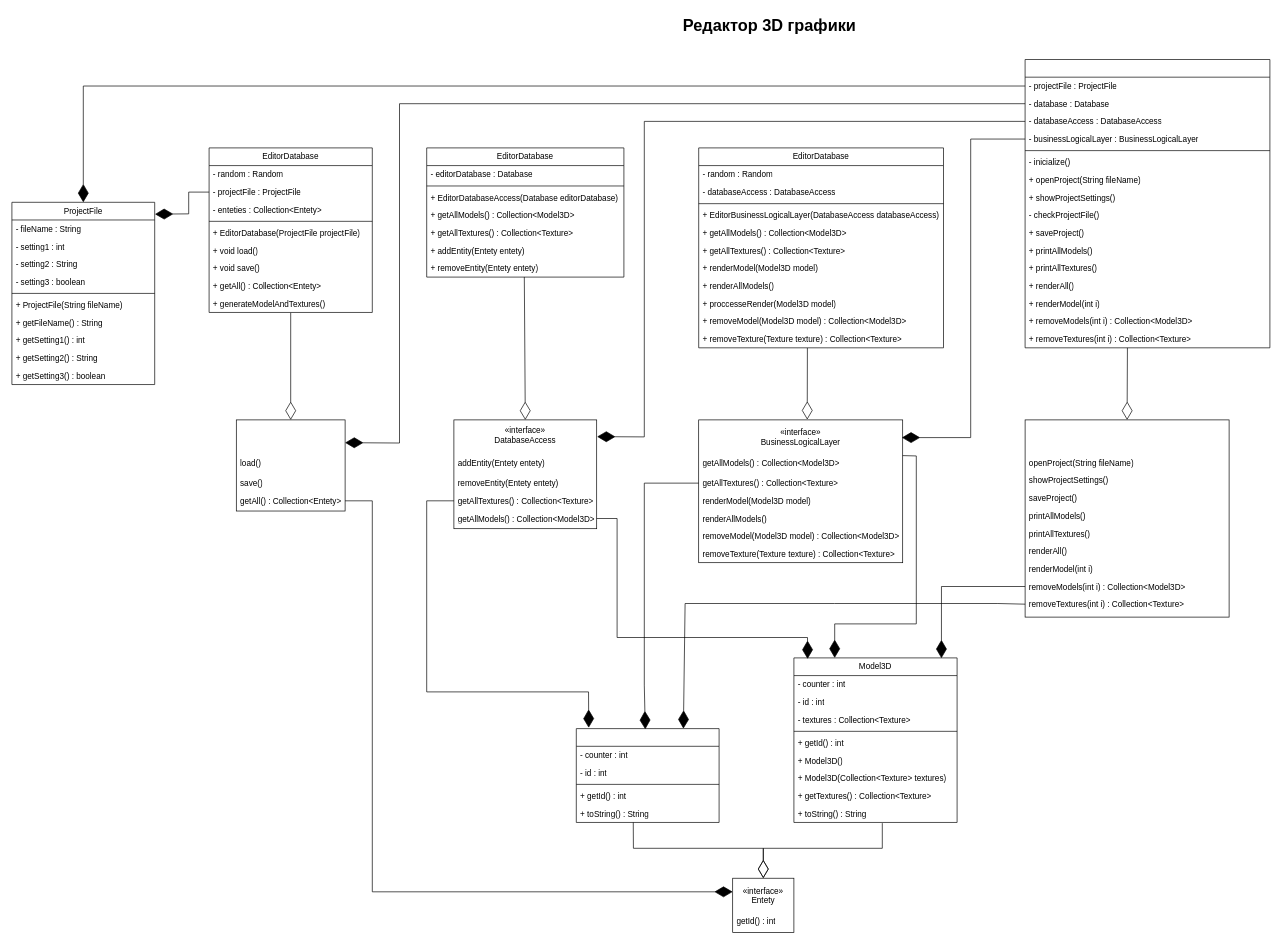
Image size: 1282x945. Some labels were removed from this diagram. Here are the shapes that lost their labels. From the top down, the box of each, then its label:
(1024, 59, 1270, 348): Editor3D
(236, 419, 345, 511): «interface» Database
(1024, 419, 1229, 617): «interface» UiLayer
(576, 728, 719, 822): Texture
